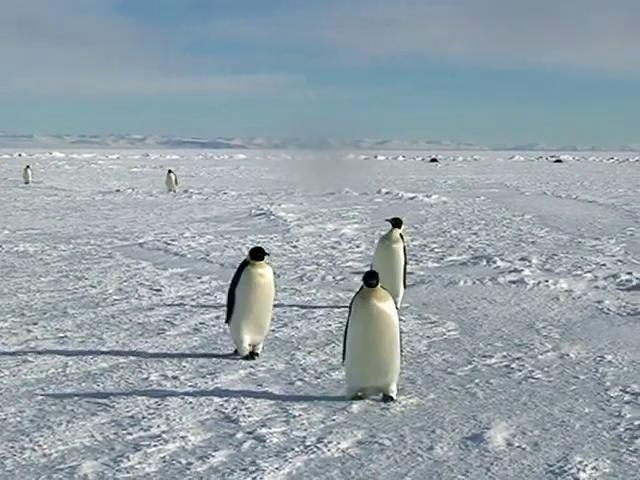animal: (374, 219, 409, 308)
